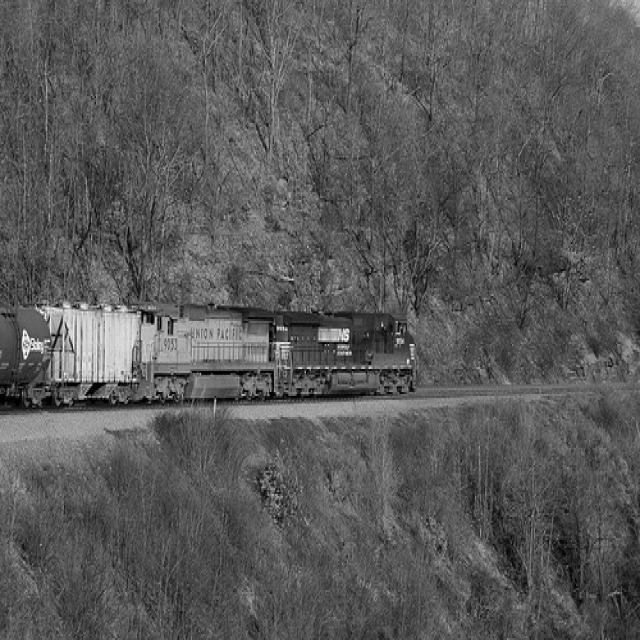train: (3, 301, 419, 406)
